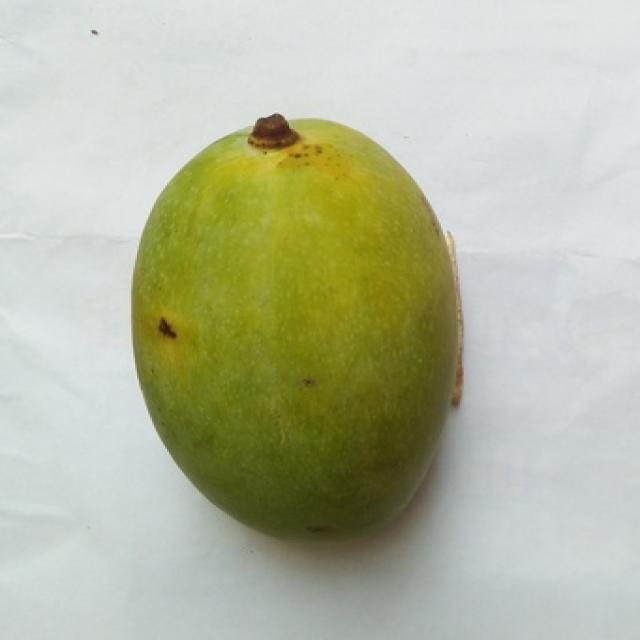Mango: (131, 120, 460, 535)
